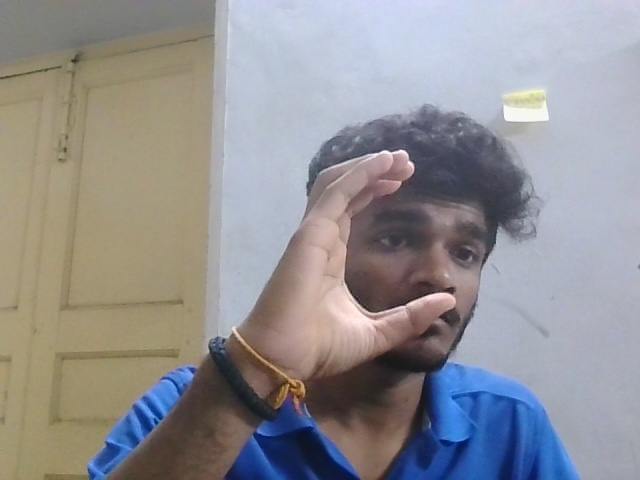No: (250, 136, 467, 388)
